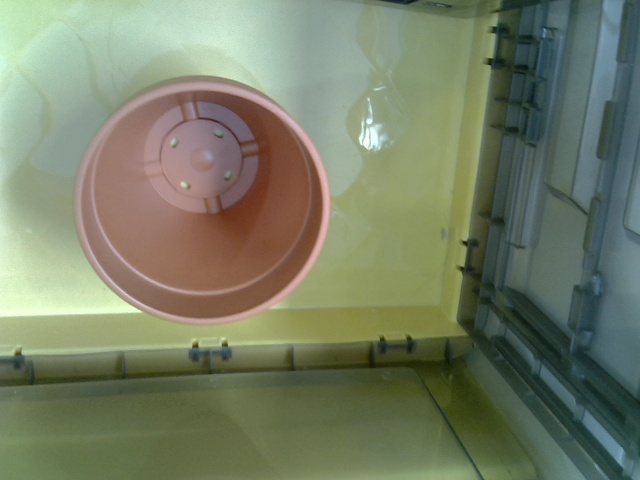화분: (75, 76, 333, 328)
